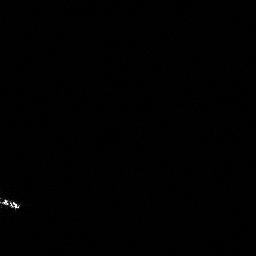ship: (1, 194, 22, 214)
